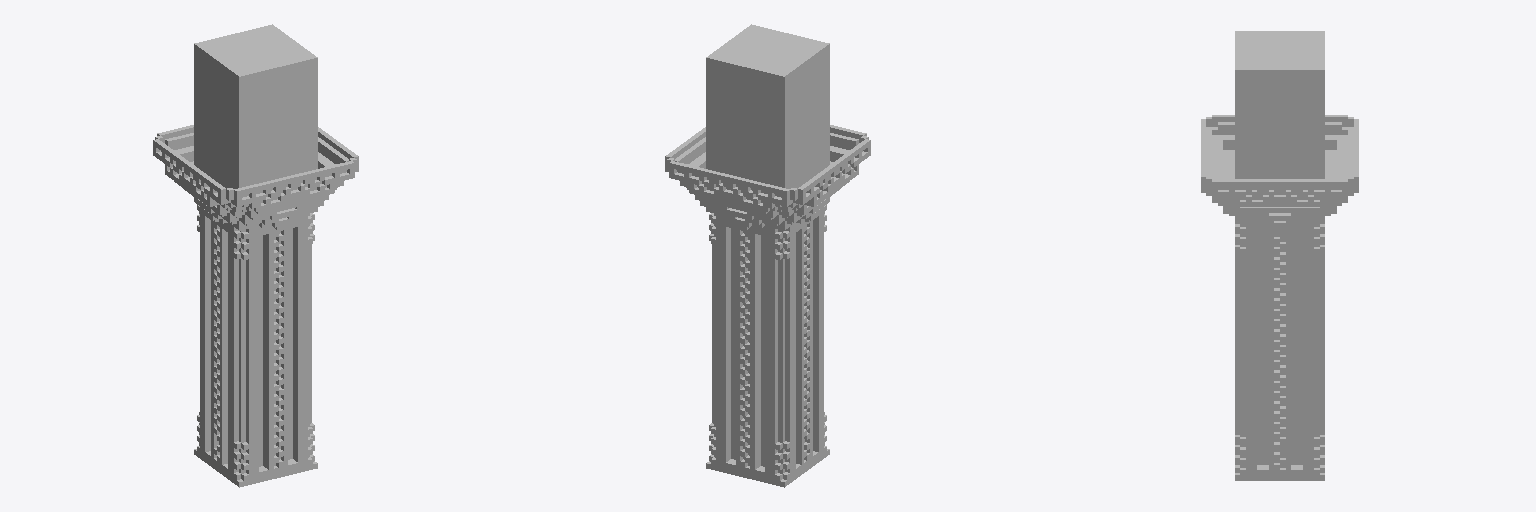
Rendered from torch.obj.
3 views of the same model, side by side, from view 1: azimuth 30°, elevation 25°; view 2: azimuth 150°, elevation 25°; view 3: azimuth 270°, elevation 25° (orthographic).
Visible parts, largest first — view 1: object 1; view 2: object 1; view 3: object 1.
Boxes of the visible parts, x1,y1,x2,y2 form: object 1: [153, 24, 358, 487]; object 1: [665, 24, 870, 487]; object 1: [1201, 31, 1358, 480].
Bounding box in the file's own units: 2.8 × 8 × 2.8.